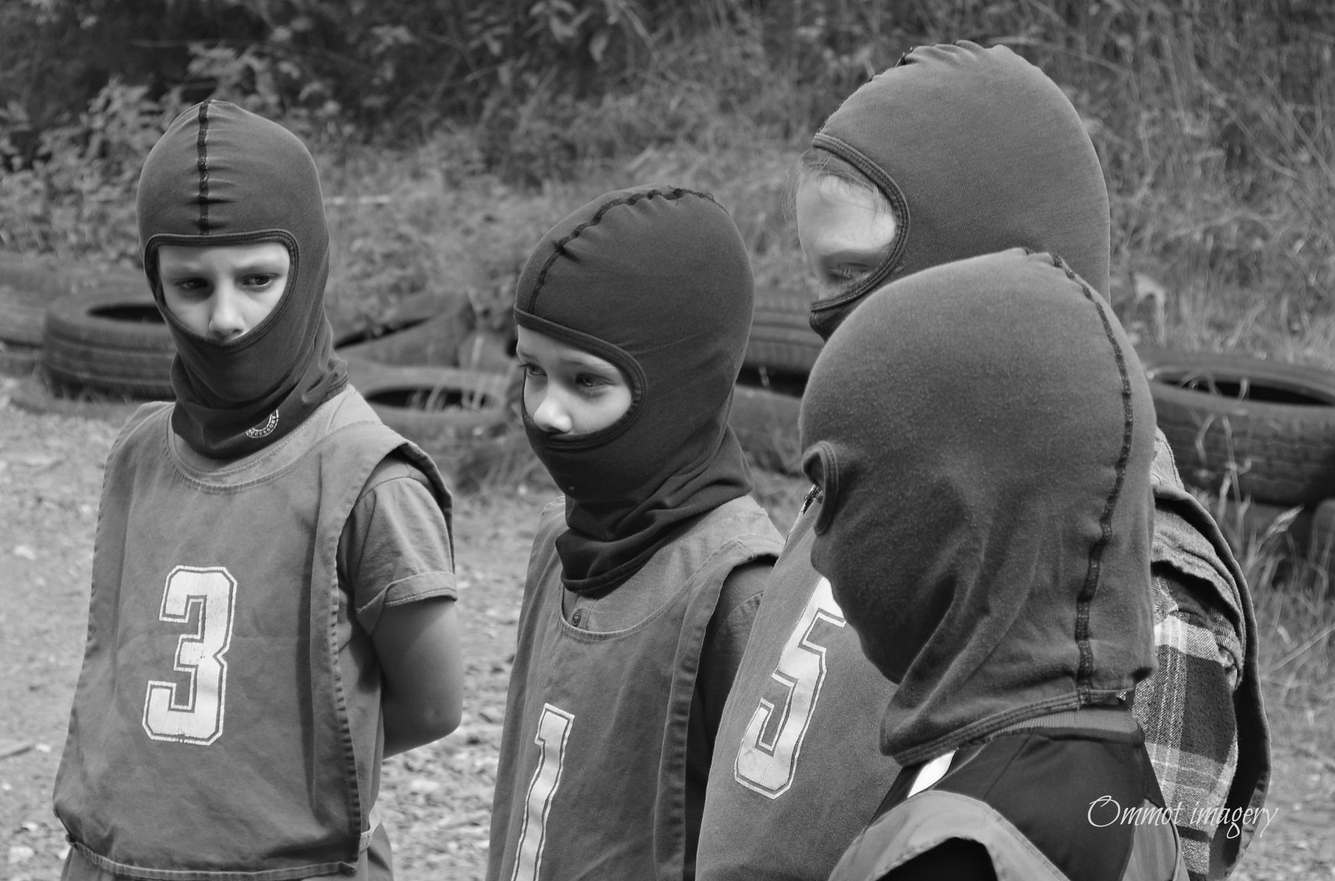WRONG: (527, 341, 674, 500), (154, 257, 297, 387)
